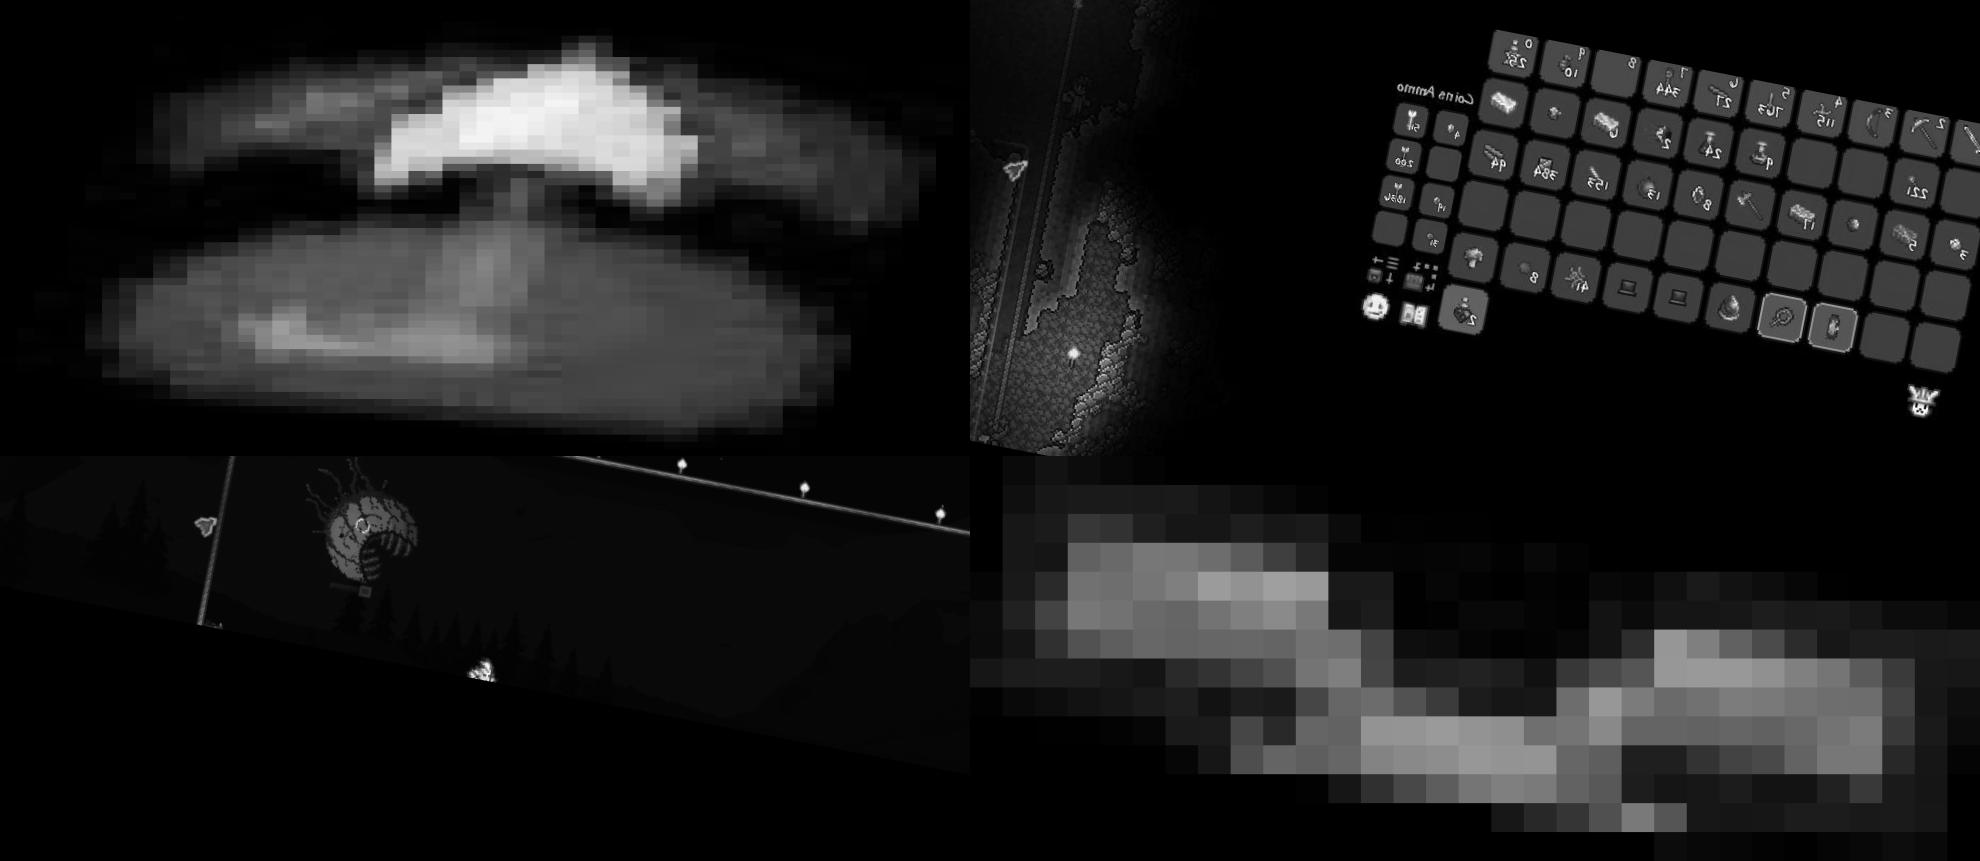breastplate: (970, 456, 1980, 861)
eyeC: (284, 456, 434, 597)
slime: (0, 0, 970, 456)
